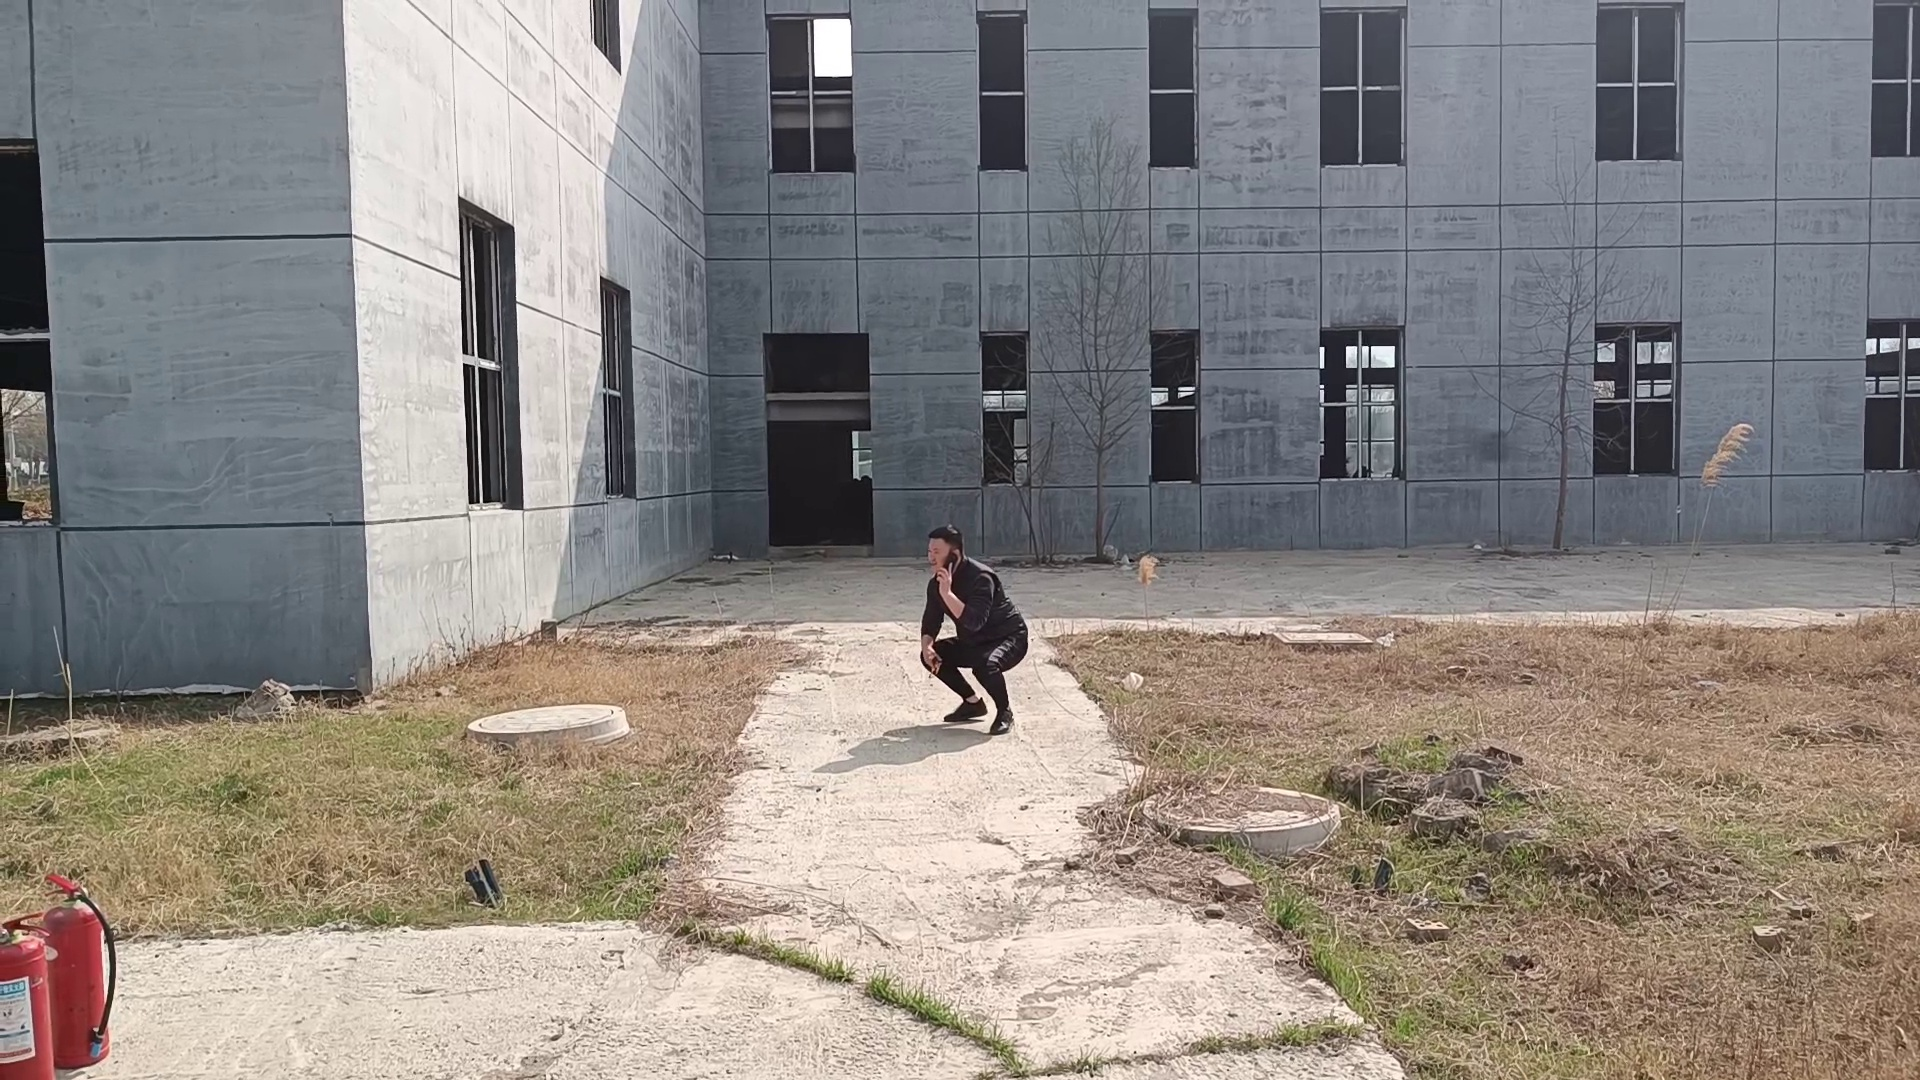phone: (919, 531, 964, 583)
